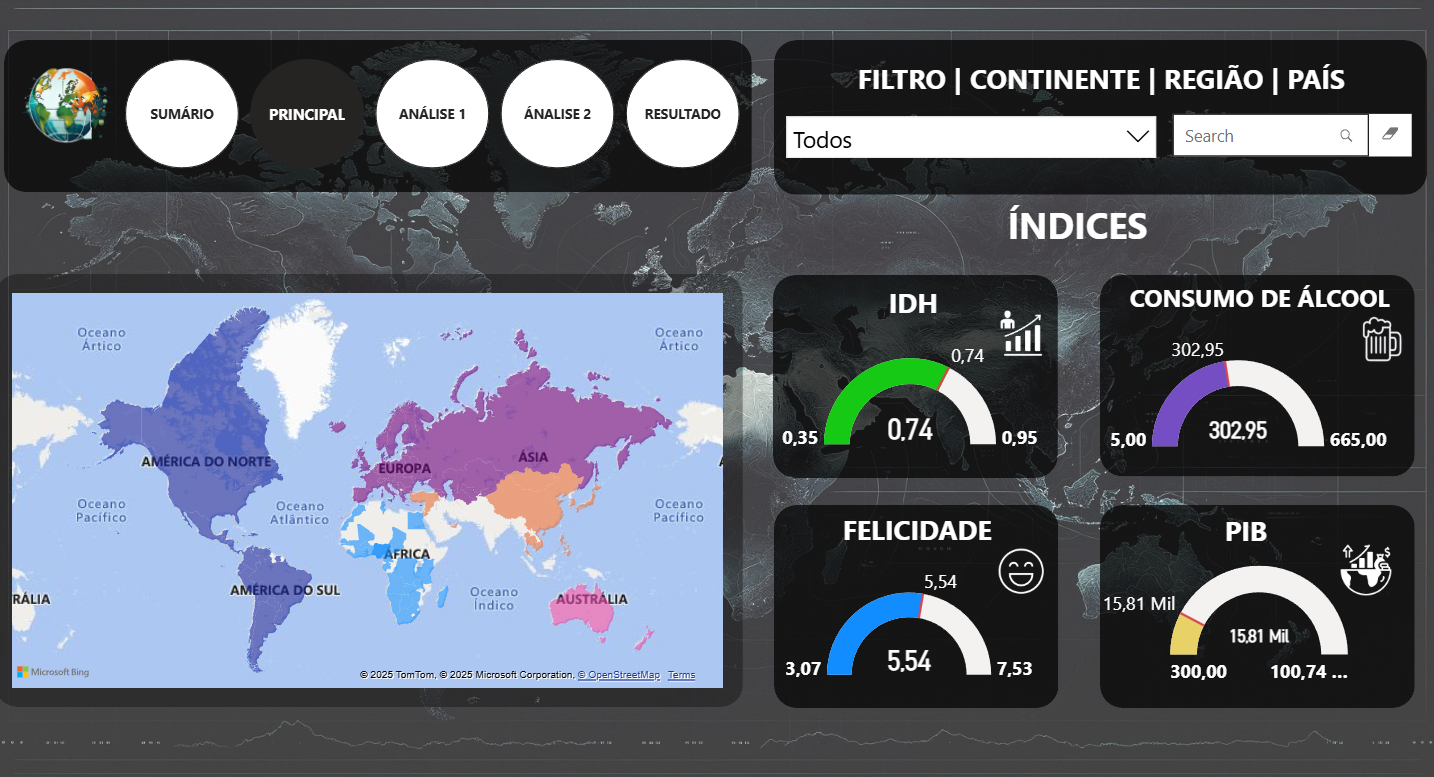

Layout of this report page (visuals, bound fields, positions):
{"tool":"powerbi","page":{"name":"PRINCIPAL","canvas":[1280,720],"ordinal":1},"visuals":[{"type":"shape","box":[0,245.8,663.3,384],"z":0},{"type":"shape","box":[690.5,37.9,579.1,137.4],"z":1000},{"type":"shape","box":[8.3,37.9,663.2,135],"z":2000},{"type":"shape","box":[979.5,246.6,279.2,178.6],"z":3000},{"type":"shape","box":[690.3,450.8,252.3,180],"z":4000},{"type":"shape","box":[689.7,246.1,252.6,180],"z":5000},{"type":"shape","box":[979.5,450.8,279.2,180],"z":6000},{"type":"filledMap","fields":{"Category":["Dados_Happiness_Alcohol_Comsump.País"],"Series":["Felicidade.Continente"]},"box":[10.2,257.5,641.5,360.7],"z":7000},{"type":"textbox","box":[760.3,50.9,509.3,47.4],"z":8000},{"type":"pageNavigator","box":[115.1,54.7,547.7,97.7],"z":9000},{"type":"textbox","box":[1085.7,450.9,66.5,47.8],"z":10000},{"type":"textbox","box":[787.2,248.8,74.4,53.5],"z":11000},{"type":"textbox","box":[1001.2,246.5,257,55.8],"z":12000},{"type":"textbox","box":[892.5,175,157.5,71.2],"z":13000},{"type":"gauge","fields":{"Y":["Avg(Felicidade.Soma Bebidas)"]},"box":[978.8,278.8,265,138.8],"z":14000},{"type":"textbox","box":[746.5,450,154.7,48.8],"z":15000},{"type":"gauge","fields":{"Y":["Avg(Felicidade.PIB_PerCapita)"]},"box":[943,498.8,293,119.8],"z":16000},{"type":"image","box":[0,37.9,129.1,122],"z":17000},{"type":"gauge","fields":{"Y":["Avg(Felicidade.Felicidade Ajustada)"]},"box":[690.7,486,239.5,132.6],"z":18000},{"type":"gauge","fields":{"Y":["Avg(Felicidade.IDH ajustado)"]},"box":[688.4,284.9,246.5,132.6],"z":19000},{"type":"image","box":[1189.5,268.6,80.2,80.2],"z":20000},{"type":"slicer","fields":{"Values":["Felicidade.Continente","Felicidade.Região","Felicidade.País"]},"box":[691.9,95.3,347.7,67.4],"z":21000},{"type":"textFilter25A4896A83E0487089E2B90C9AE57C8A","fields":{"field":["Felicidade.País"]},"box":[1039.5,98.8,222.1,61.6],"z":22000},{"type":"image","box":[884.9,273.3,50,50],"z":23000},{"type":"image","box":[884.9,483.7,50,50],"z":24000},{"type":"image","box":[1188.4,480.2,55,55],"z":25000}]}

Visuals, with their boxes on the page's 1280x720 design canvas (x1, y1, x2, y2). These are canvas units, not pixel positions in the 1434x777 screenshot, which may show the page scaled, cropped or inside an application window:
shape: bbox=[0, 246, 663, 630]
shape: bbox=[690, 38, 1270, 175]
shape: bbox=[8, 38, 672, 173]
shape: bbox=[980, 247, 1259, 425]
shape: bbox=[690, 451, 943, 631]
shape: bbox=[690, 246, 942, 426]
shape: bbox=[980, 451, 1259, 631]
filledMap - Dados_Happiness_Alcohol_Comsump.País x Felicidade.Continente: bbox=[10, 258, 652, 618]
textbox: bbox=[760, 51, 1270, 98]
pageNavigator: bbox=[115, 55, 663, 152]
textbox: bbox=[1086, 451, 1152, 499]
textbox: bbox=[787, 249, 862, 302]
textbox: bbox=[1001, 246, 1258, 302]
textbox: bbox=[892, 175, 1050, 246]
gauge - Avg(Felicidade.Soma Bebidas): bbox=[979, 279, 1244, 418]
textbox: bbox=[746, 450, 901, 499]
gauge - Avg(Felicidade.PIB_PerCapita): bbox=[943, 499, 1236, 619]
image: bbox=[0, 38, 129, 160]
gauge - Avg(Felicidade.Felicidade Ajustada): bbox=[691, 486, 930, 619]
gauge - Avg(Felicidade.IDH ajustado): bbox=[688, 285, 935, 418]
image: bbox=[1190, 269, 1270, 349]
slicer - Felicidade.Continente x Felicidade.Região: bbox=[692, 95, 1040, 163]
textFilter25A4896A83E0487089E2B90C9AE57C8A - Felicidade.País: bbox=[1040, 99, 1262, 160]
image: bbox=[885, 273, 935, 323]
image: bbox=[885, 484, 935, 534]
image: bbox=[1188, 480, 1243, 535]
